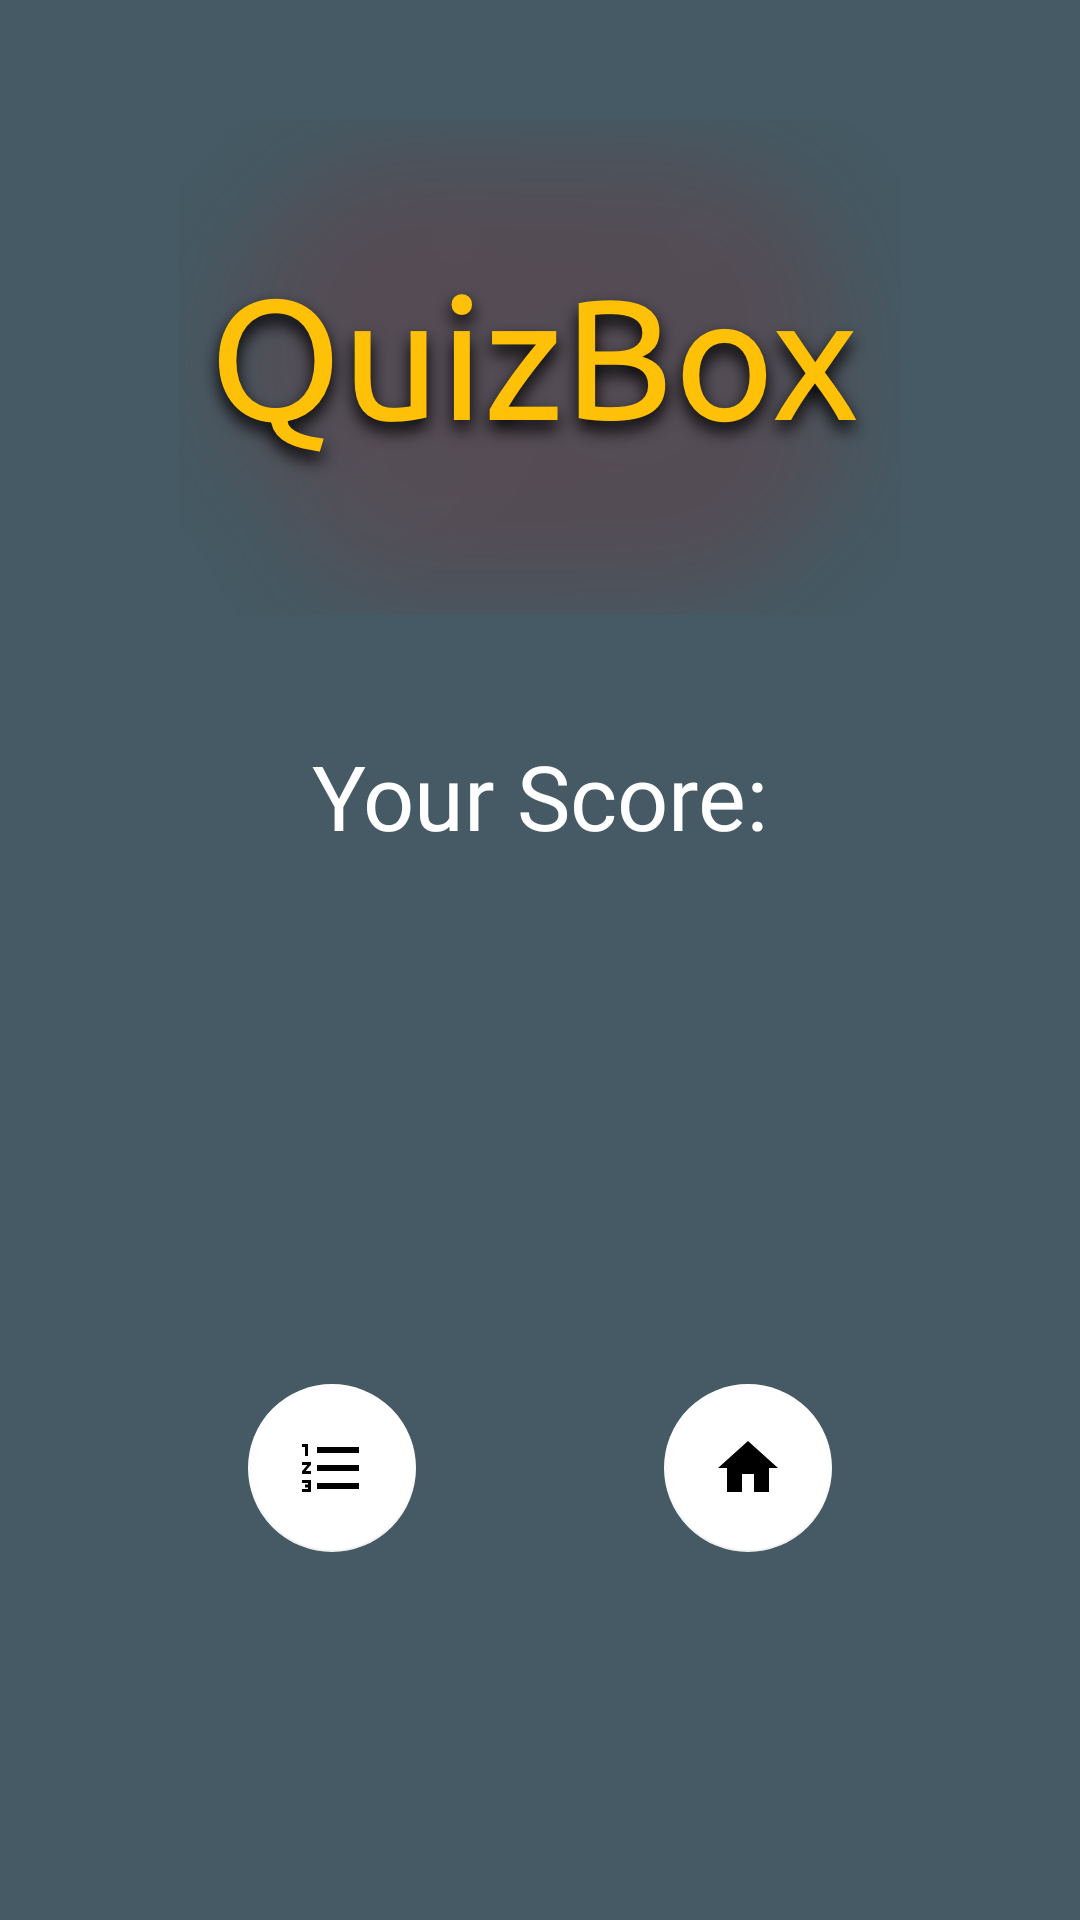

Screen size 1080px×1920px. Icon name, then its center in pixels as (x,y):
format list numbered: (332,1468)
home: (748,1468)
